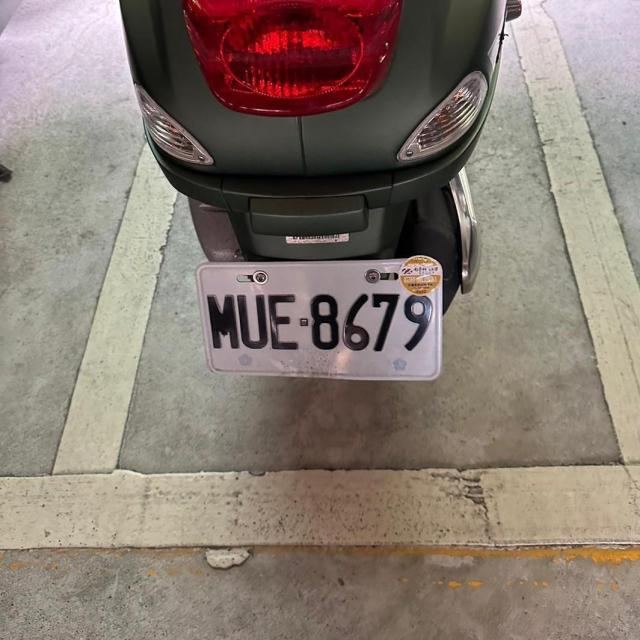W: (191, 253, 448, 391)
